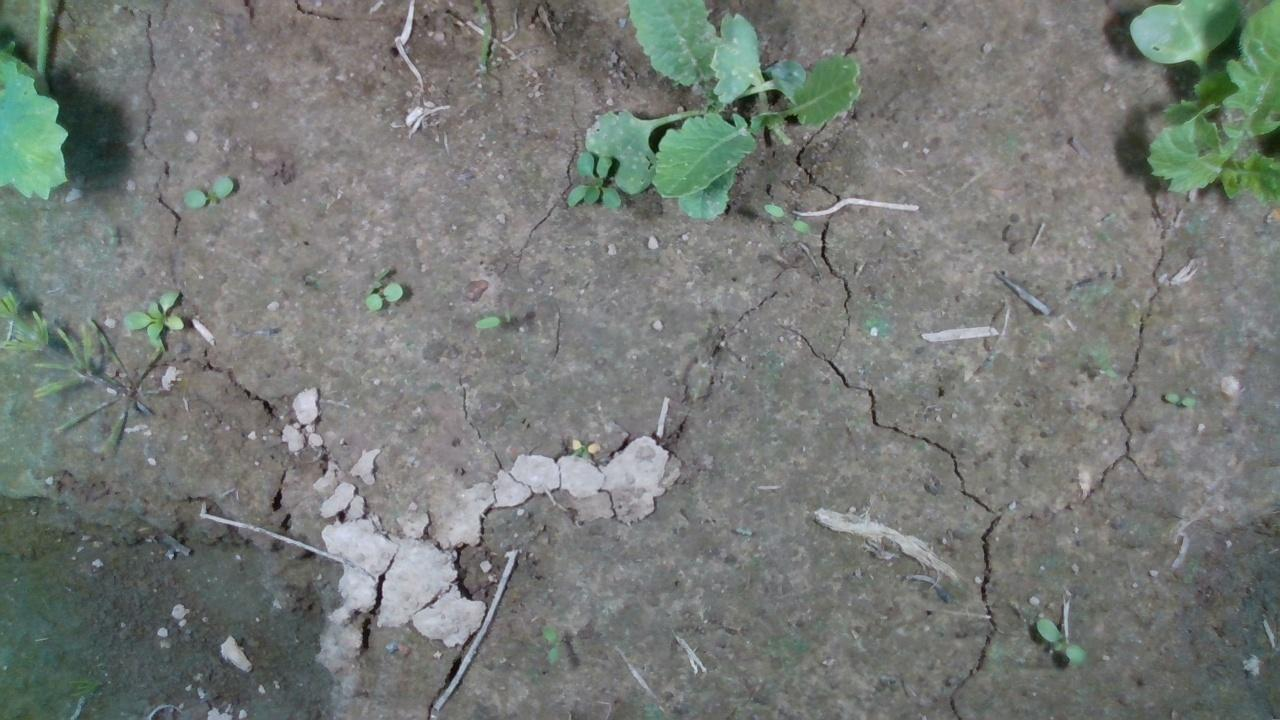weed: (1035, 616, 1087, 664), (179, 173, 233, 208), (761, 201, 811, 236), (363, 280, 403, 310), (539, 621, 561, 665), (1162, 390, 1200, 409), (472, 314, 501, 329)
